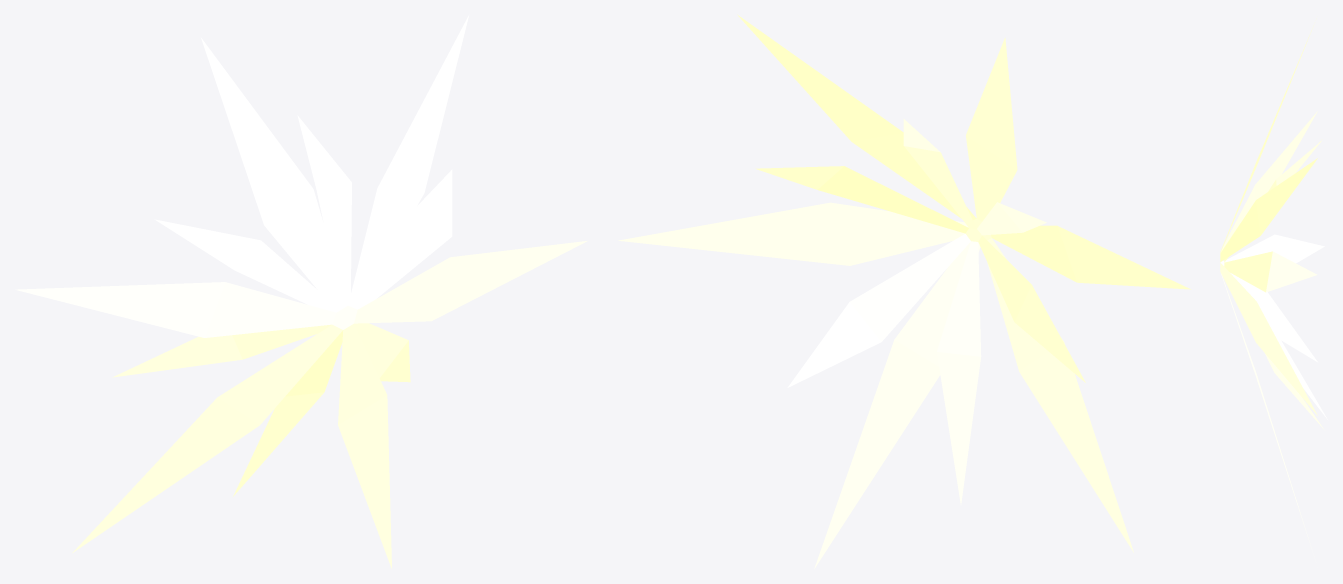
File: mussle_flash.fbx
3 views of the same model, side by side, from view 1: azimuth 30°, elevation 25°; view 2: azimuth 150°, elevation 25°; view 3: azimuth 270°, elevation 25° (orthographic). The views are drawn at different scales.
Visible parts, largest first — view 1: Cylinder; view 2: Cylinder; view 3: Cylinder.
Part boxes in pixels (x1,y1,x2,y2): Cylinder: (15,15,587,568); Cylinder: (618,14,1190,568); Cylinder: (1220,18,1327,556).
Bounding box in the file's own units: 1.34 × 1.3 × 0.2659.
